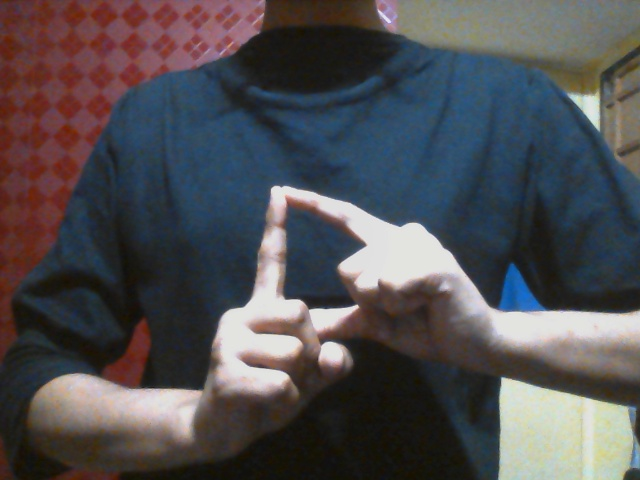D: (197, 181, 487, 464)
